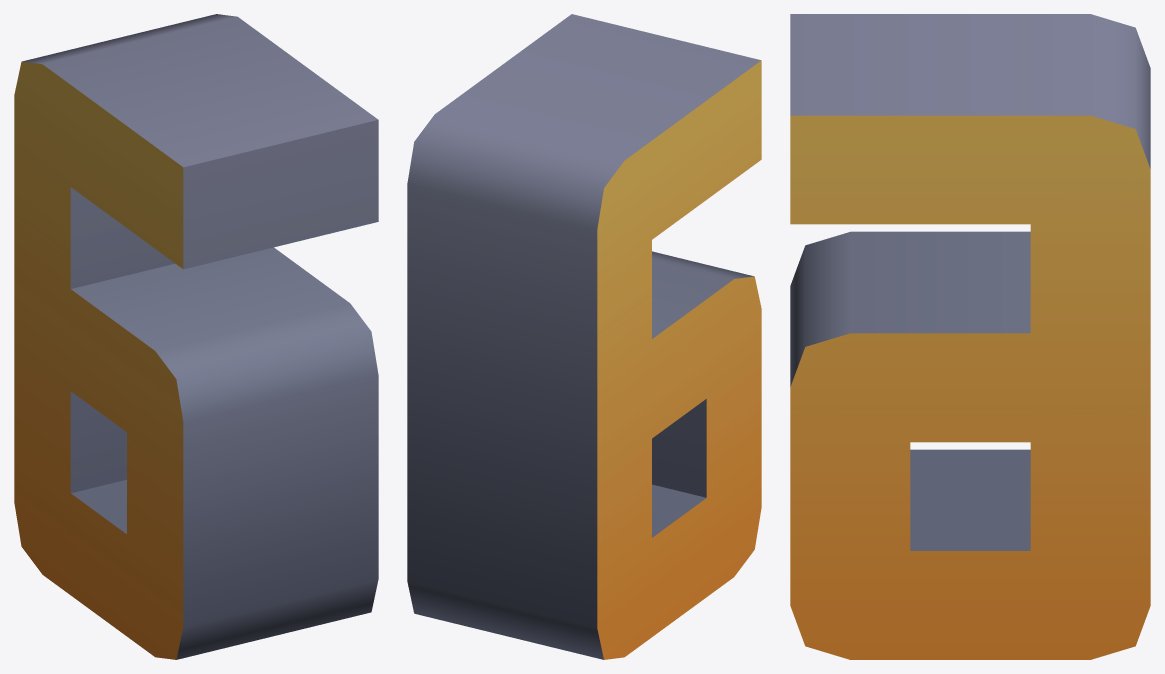
Rendered from kenney-prototype-number-6.glb.
3 views of the same model, side by side, from view 1: azimuth 30°, elevation 25°; view 2: azimuth 150°, elevation 25°; view 3: azimuth 270°, elevation 25° (orthographic). The views are drawn at different scales.
Parts seen in each view (by area): view 1: number-6; view 2: number-6; view 3: number-6.
Boxes of the visible parts, <box> form: number-6: <box>14,14,378,659</box>; number-6: <box>407,14,761,659</box>; number-6: <box>790,14,1150,659</box>.
Size of the model in its own units: 0.2 by 0.5 by 0.3.
Materials: 1 (1 with a texture image).
